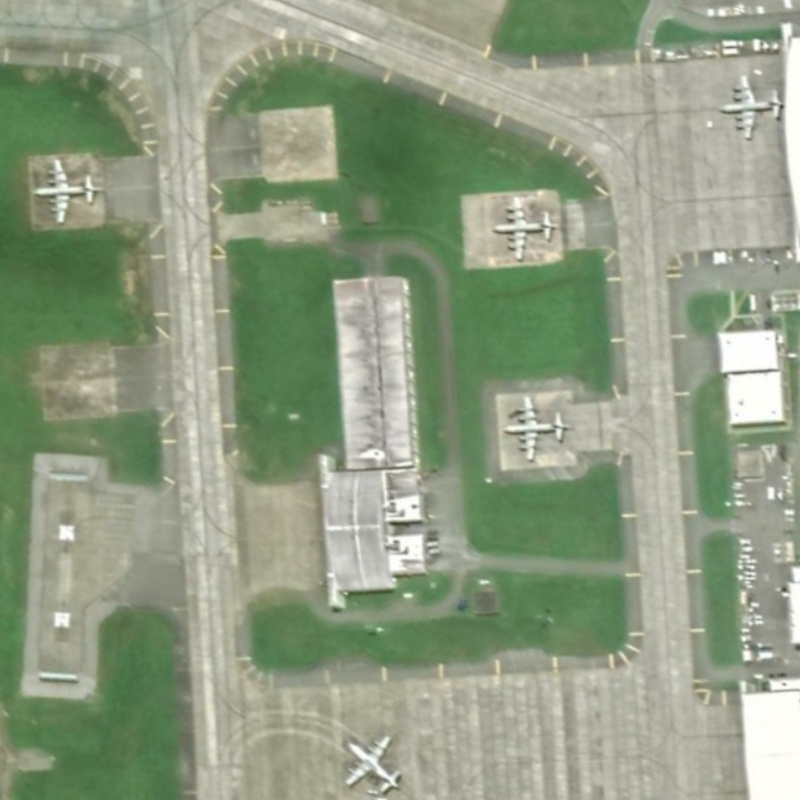A9: (29, 156, 109, 228), (715, 71, 787, 143), (501, 393, 573, 464), (489, 193, 559, 265), (339, 732, 407, 796)
